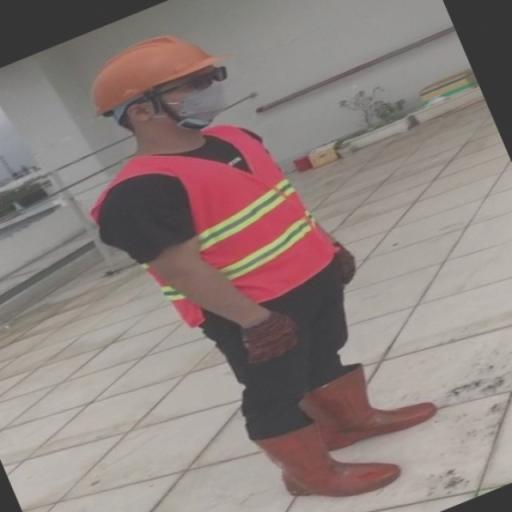Person: (55, 20, 480, 508)
boots: (247, 414, 409, 501), (289, 366, 443, 450)
gloves: (240, 311, 300, 363), (314, 238, 360, 287)
goggles: (158, 61, 238, 92)
helmet: (80, 29, 224, 113)
vest: (91, 114, 348, 346)
